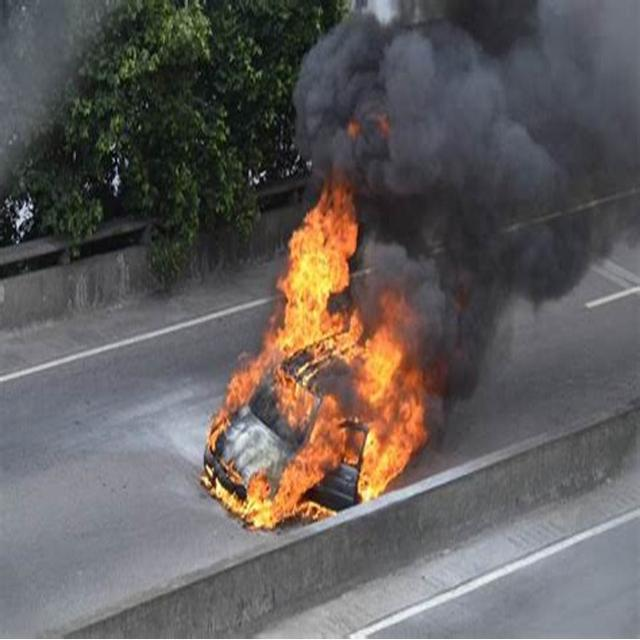fire: (357, 344, 418, 495), (287, 214, 347, 338), (246, 472, 292, 531)
